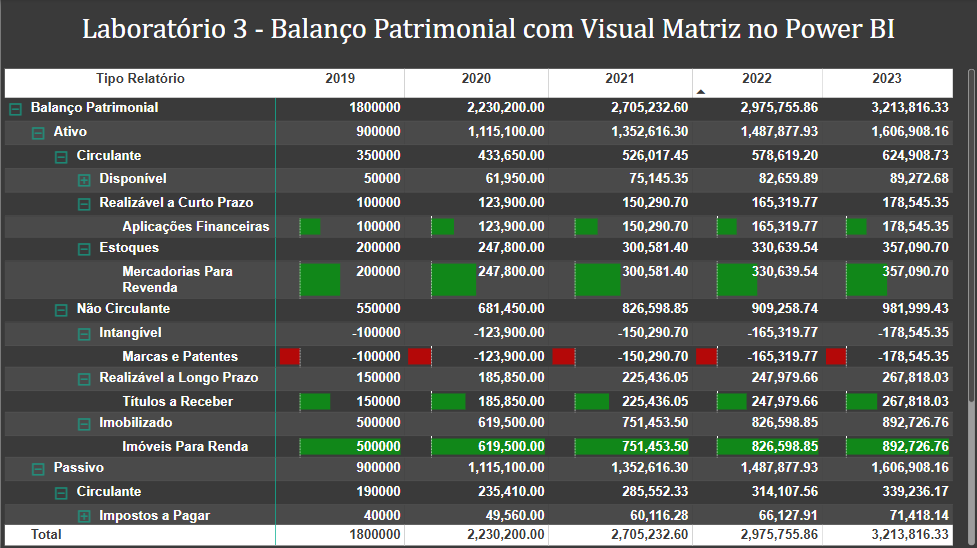

Layout of this report page (visuals, bound fields, positions):
{"tool":"powerbi","page":{"name":"Página 1","canvas":[1280,720],"ordinal":0},"visuals":[{"type":"pivotTable","fields":{"Rows":["PlanoContas.Tipo Relatório","PlanoContas.Conta Nível 1","PlanoContas.Conta Nível 2","PlanoContas.Conta Nível 3","PlanoContas.Conta Nível 4"],"Values":["Sum(DadosContabeis.Ano_2019)","Sum(DadosContabeis.Ano_2020)","Sum(DadosContabeis.Ano_2021)","Sum(DadosContabeis.Ano_2022)","Sum(DadosContabeis.Ano_2023)"]},"box":[0,86.4,1280.2,633.6],"z":0},{"type":"textbox","box":[20.2,10.1,1237,59],"z":1000}]}

Visuals, with their boxes in screenshot pixels (x1, y1, x2, y2), scaled from the page's 1280x720 canvas onto the 977x548 screenshot:
pivotTable - PlanoContas.Tipo Relatório x PlanoContas.Conta Nível 1: 0/66/976/547
textbox: 15/8/960/53
